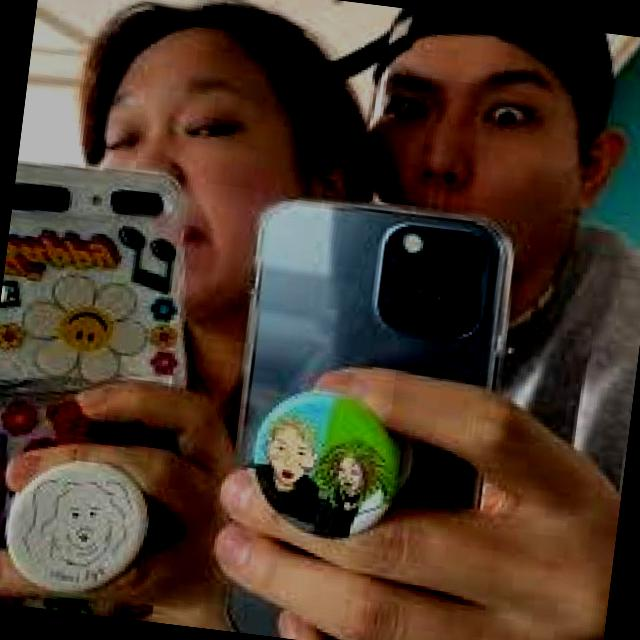lens_back: (426, 284, 484, 340), (385, 252, 434, 304), (438, 233, 484, 284)
phone: (210, 184, 523, 640), (0, 150, 201, 599)
